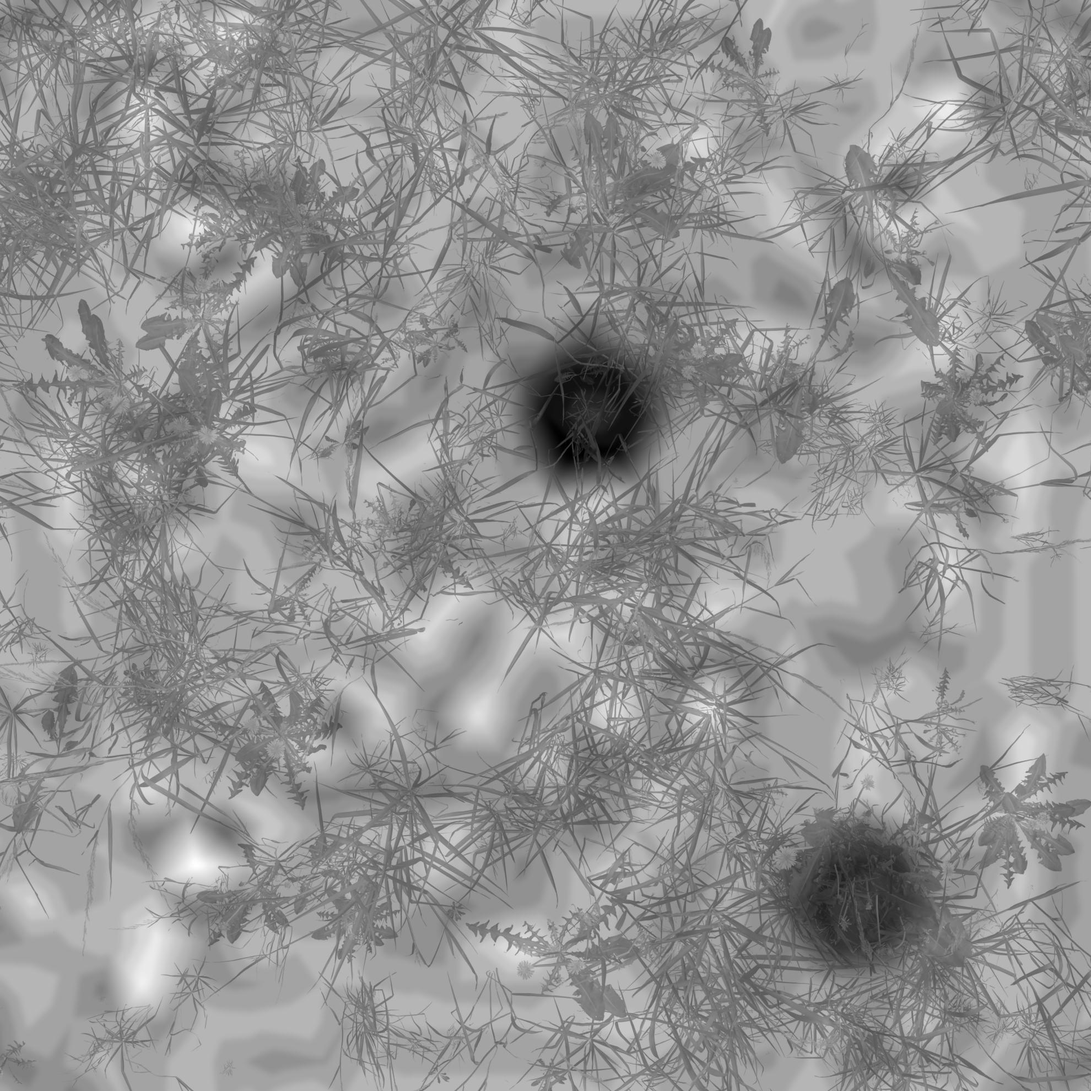landmine: (511, 333, 658, 491), (785, 820, 933, 971)
